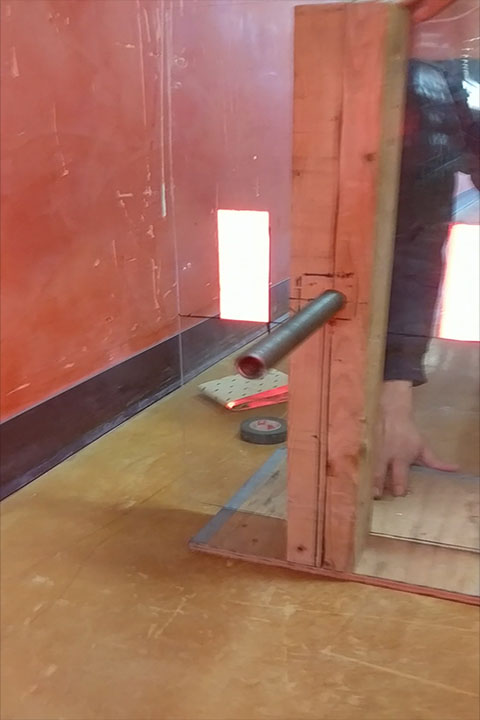gear: (216, 210, 270, 323), (437, 223, 480, 341)
